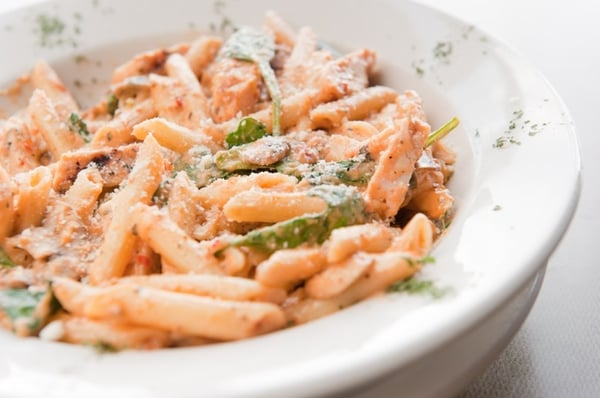sushi: (13, 10, 584, 391)
